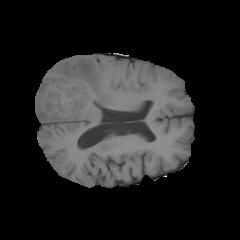glioma: (37, 57, 107, 125)
